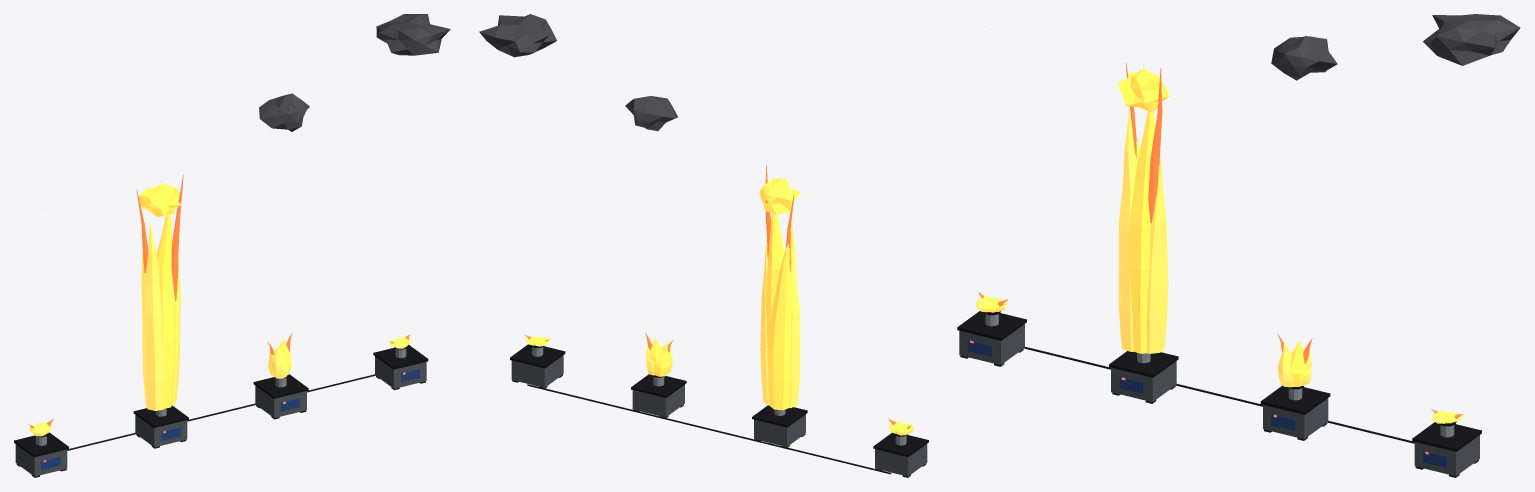
Rendered from pyro.glb.
The picture shows the model from 3 angles, left to right: view 1: azimuth 30°, elevation 25°; view 2: azimuth 150°, elevation 25°; view 3: azimuth 330°, elevation 25°; orthographic projection. The views are drawn at different scales.
Parts seen in each view (by area): view 1: Units, Flame1, Smoke3, Smoke2, Fireball1, Flame2; view 2: Units, Flame1, Smoke3, Smoke2, Fireball1, Flame2; view 3: Units, Flame1, Smoke3, Smoke2, Fireball1, Flame2.
Part boxes in pixels (box(x1,y1,x2,y2)): Units: box(14, 345, 428, 477); Flame1: box(136, 175, 183, 410); Smoke3: box(376, 14, 450, 55); Smoke2: box(259, 93, 309, 131); Fireball1: box(138, 183, 181, 216); Flame2: box(267, 332, 292, 378); Units: box(510, 344, 928, 477); Flame1: box(760, 165, 800, 410); Smoke3: box(479, 14, 557, 57); Smoke2: box(625, 96, 677, 130); Fireball1: box(759, 178, 800, 214); Flame2: box(645, 332, 672, 376); Units: box(957, 311, 1481, 477); Flame1: box(1118, 63, 1168, 353); Smoke3: box(1423, 14, 1520, 65); Smoke2: box(1271, 36, 1337, 80); Fireball1: box(1117, 68, 1169, 112); Flame2: box(1277, 333, 1312, 387).
Bounding box in the file's own units: 7.96 × 6.38 × 1.1.
